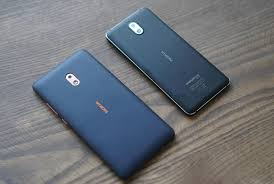nokia: (28, 49, 175, 182)
